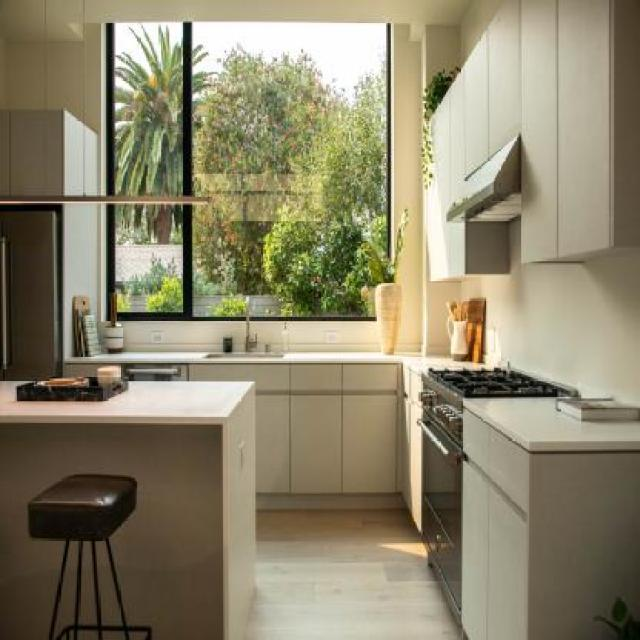Floor: (245, 508, 460, 640)
